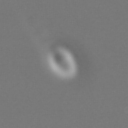normal: (15, 1, 55, 47)
